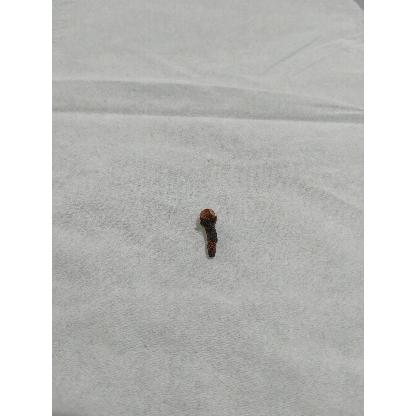sedang: (197, 209, 219, 259)
